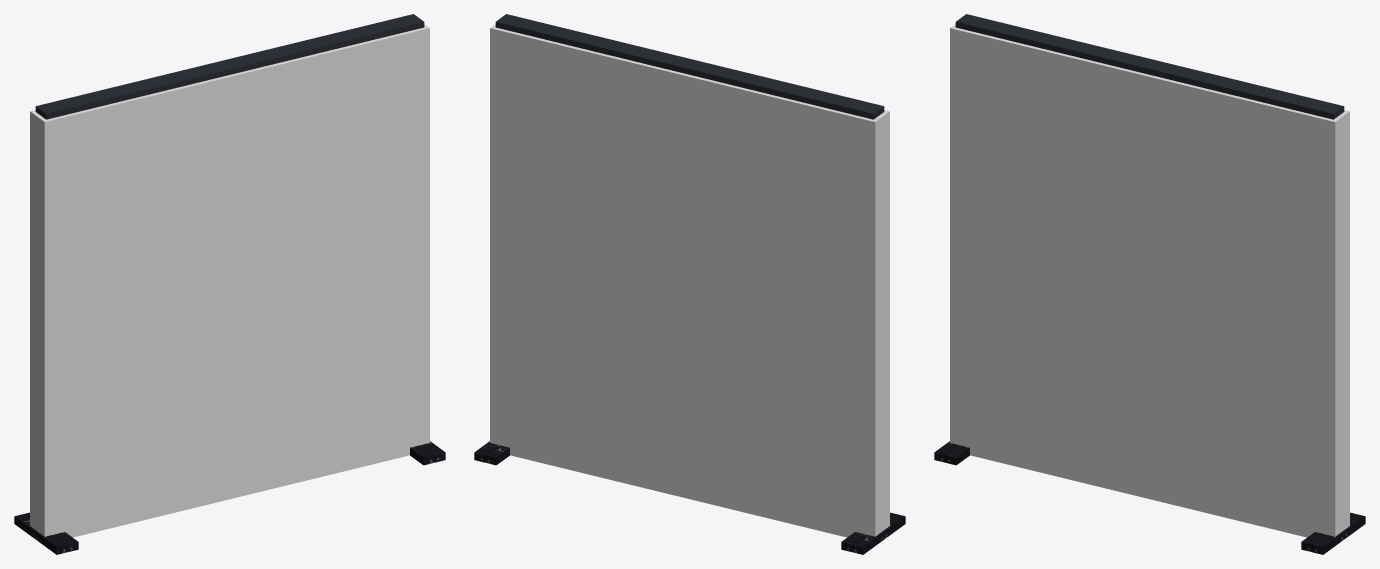
File: Furn_Divider_Louver.001.gltf
3 views of the same model, side by side, from view 1: azimuth 30°, elevation 25°; view 2: azimuth 150°, elevation 25°; view 3: azimuth 330°, elevation 25° (orthographic).
Parts seen in each view (by area): view 1: Furn_Divider_Louver.001_COL, Furn_Divider_Louver.001; view 2: Furn_Divider_Louver.001_COL, Furn_Divider_Louver.001; view 3: Furn_Divider_Louver.001_COL, Furn_Divider_Louver.001.
Boxes of the visible parts, bbox=[...] form: Furn_Divider_Louver.001_COL: bbox=[30, 24, 429, 537]; Furn_Divider_Louver.001: bbox=[14, 14, 445, 554]; Furn_Divider_Louver.001_COL: bbox=[490, 24, 889, 537]; Furn_Divider_Louver.001: bbox=[474, 14, 905, 554]; Furn_Divider_Louver.001_COL: bbox=[950, 24, 1349, 537]; Furn_Divider_Louver.001: bbox=[934, 14, 1365, 554].
Size of the model in its own units: 2.12 by 2.23 by 0.4.
Materials: 3 (1 with a texture image).
